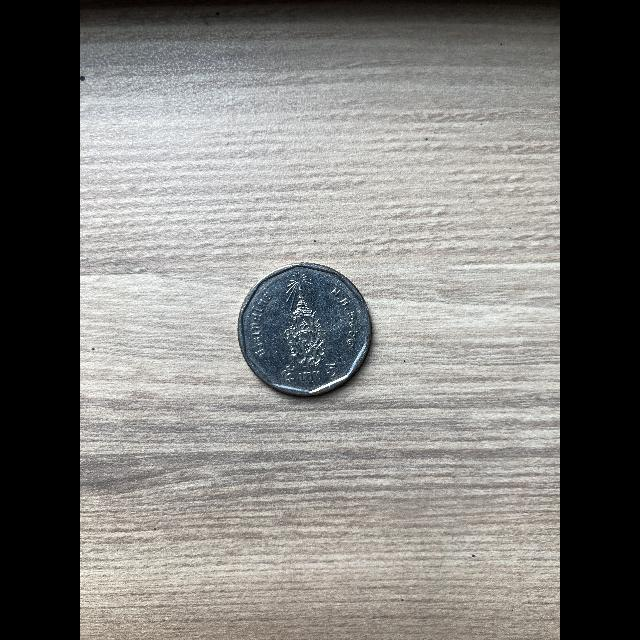5 Bath: (233, 257, 380, 406)
